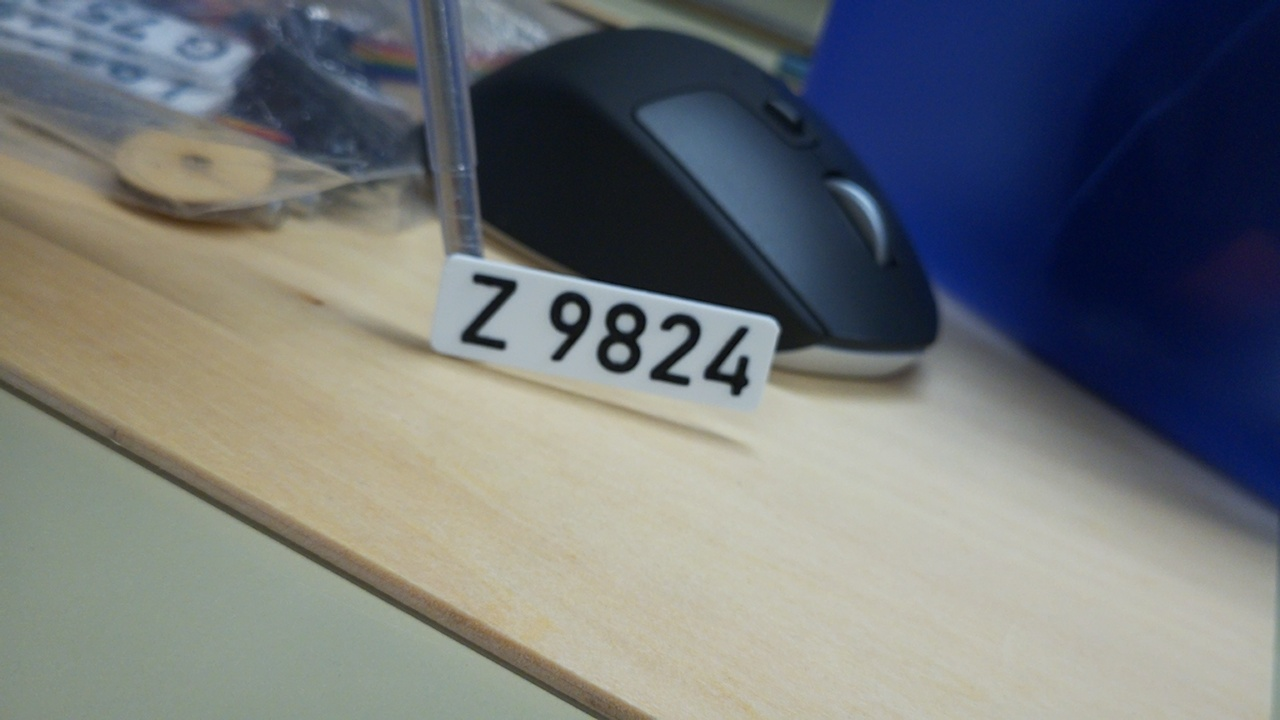license_plate: (428, 250, 783, 414)
